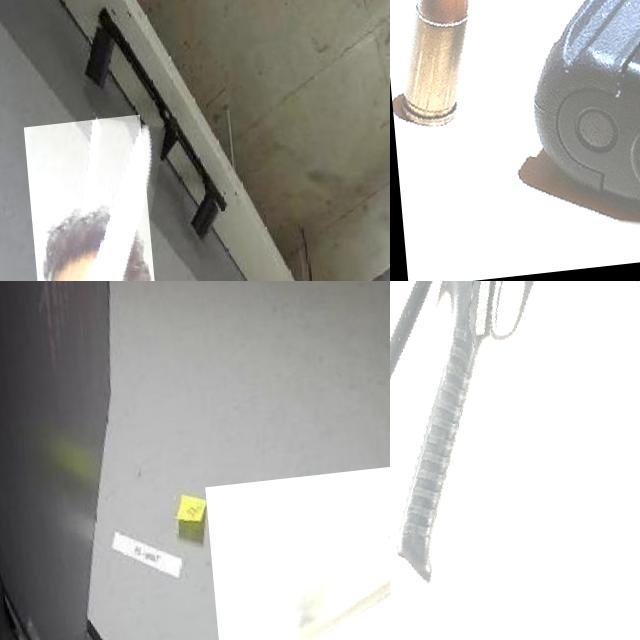-: (198, 471, 390, 640), (21, 120, 163, 281)
gun-knife-thesis - v11 Yolov5 augmented: (390, 281, 640, 640), (390, 0, 640, 281)
